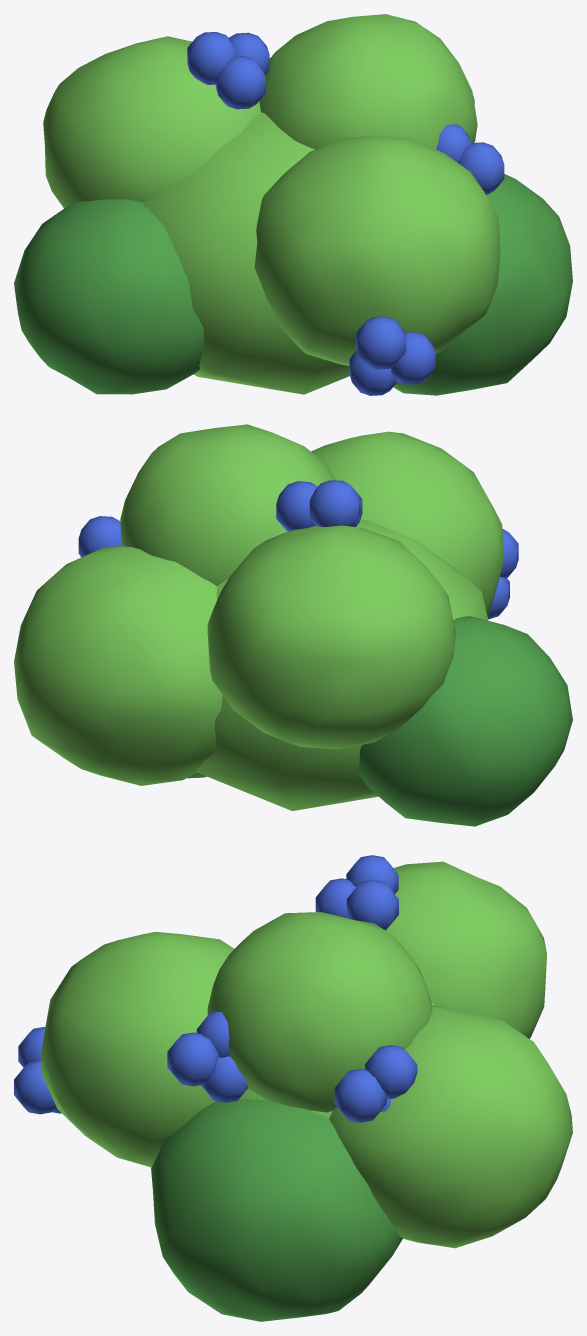
File: prop_berry_bush.glb
3 renders of one model, top to bottom at view 1: azimuth 30°, elevation 25°; view 2: azimuth 150°, elevation 25°; view 3: azimuth 270°, elevation 25°, orthographic.
Parts seen in each view (by area): view 1: prop_berry_bush; view 2: prop_berry_bush; view 3: prop_berry_bush.
Boxes of the visible parts, x1,y1,x2,y2 form: prop_berry_bush: (14,14,572,395); prop_berry_bush: (14,424,572,826); prop_berry_bush: (14,855,572,1321).
Size of the model in its own units: 1.15 by 0.8018 by 1.12.
